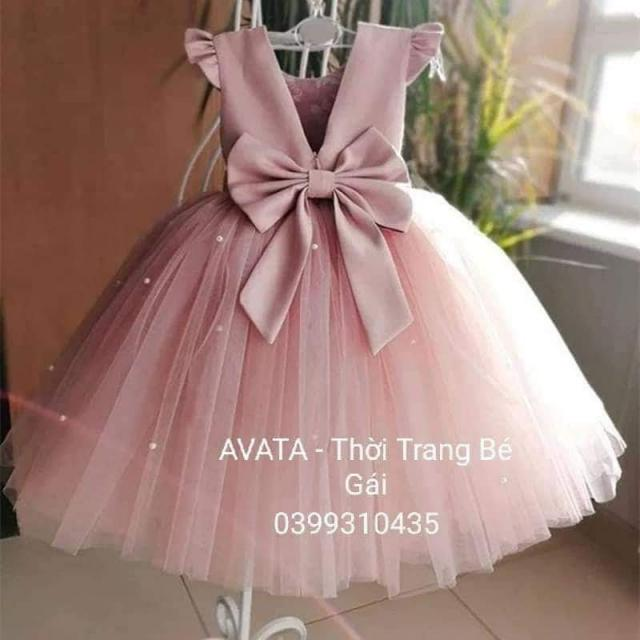clothes: (27, 23, 618, 590)
